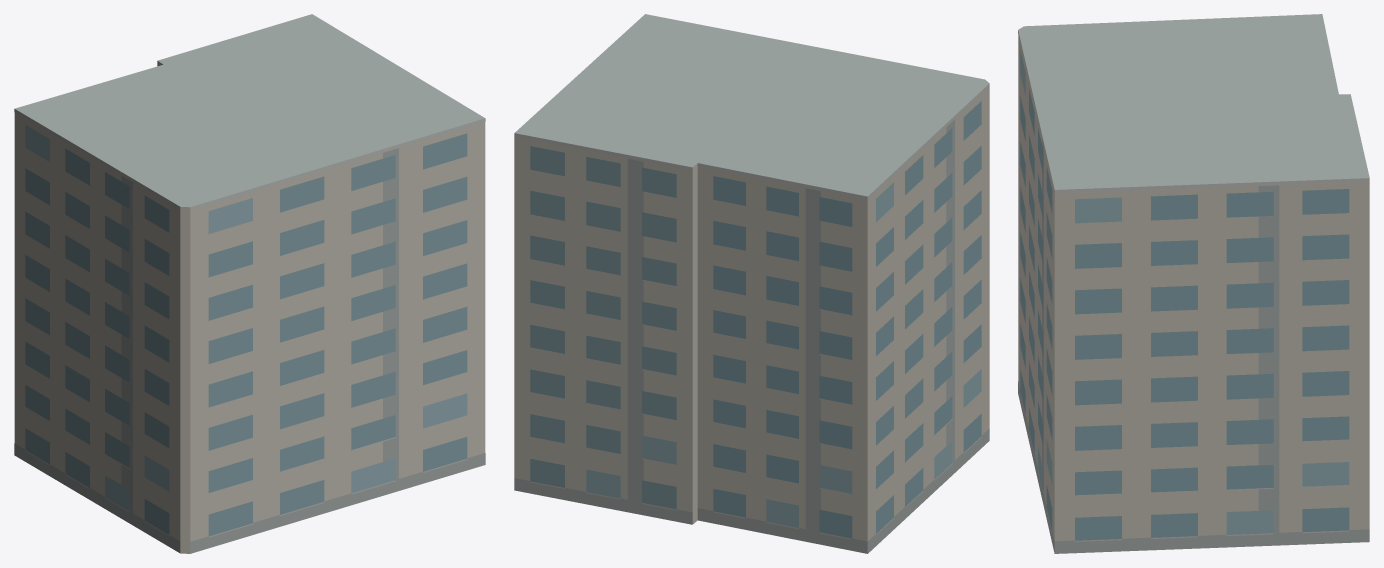
Rendered from survey-upis-32557615.glb.
3 renders of one model, left to right at view 1: azimuth 30°, elevation 25°; view 2: azimuth 150°, elevation 25°; view 3: azimuth 270°, elevation 25°, orthographic. The views are drawn at different scales.
Parts seen in each view (by area): view 1: survey-upis-32557615.tmp; view 2: survey-upis-32557615.tmp; view 3: survey-upis-32557615.tmp.
Part boxes in pixels (<box>): survey-upis-32557615.tmp: <box>14,14,485,553</box>; survey-upis-32557615.tmp: <box>514,14,989,553</box>; survey-upis-32557615.tmp: <box>1018,14,1369,553</box>.
Bounding box in the file's own units: 23.95 × 23.1 × 20.24.
